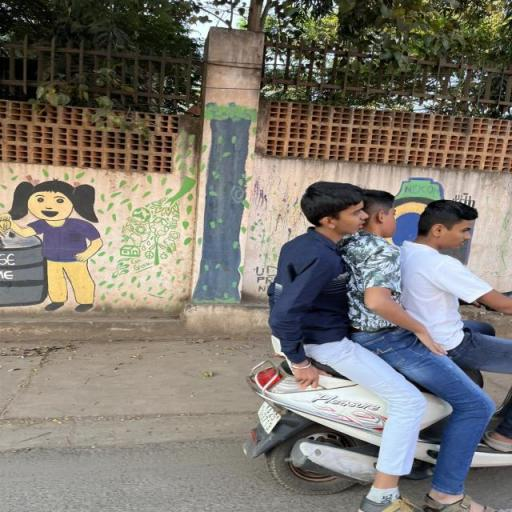tripple riding: (256, 178, 510, 368)
